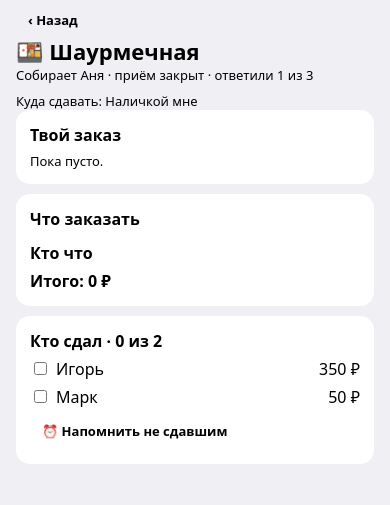
Test: OrderScreen — деньги › «Напомнить не сдавшим» показывает «Напомнил: D из N. Не дошло: …»
The width and height of the screenshot is (390, 505).
Click the button "⏰ Напомнить не сдавшим". click: [135, 432]
box: [30,414,239,450]
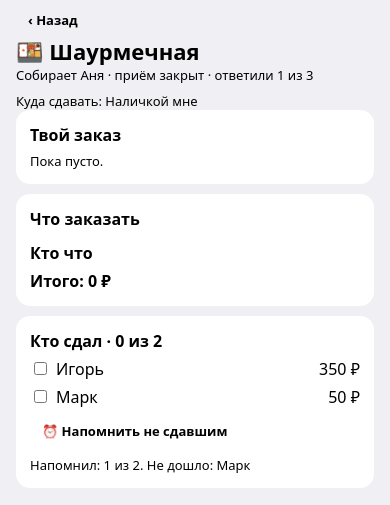
Check: the text "Напомнил: 1 из 2. Не дошло: Марк" is shown, box [30,456,250,474]
